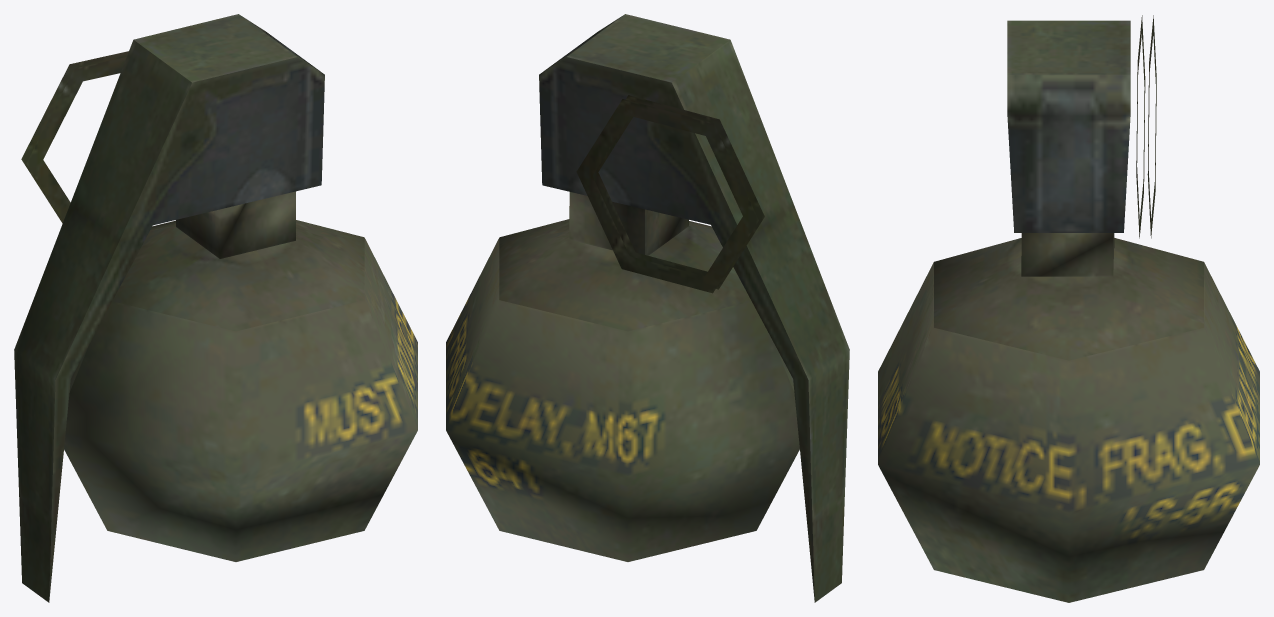
Rendered from Heavy_Throwable_sl_01_Main_(000231).glb.
3 renders of one model, left to right at view 1: azimuth 30°, elevation 25°; view 2: azimuth 150°, elevation 25°; view 3: azimuth 270°, elevation 25°, orthographic. The views are drawn at different scales.
Parts seen in each view (by area): view 1: sl_01; view 2: sl_01; view 3: sl_01.
Boxes of the visible parts, <box> form: sl_01: <box>14,14,417,602</box>; sl_01: <box>446,14,849,602</box>; sl_01: <box>878,15,1259,602</box>.
Size of the model in its own units: 0.1174 by 0.1504 by 0.0965.
Materials: 1 (1 with a texture image).
